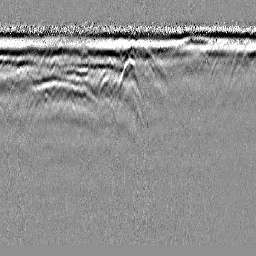cavity: (118, 56, 140, 89)
